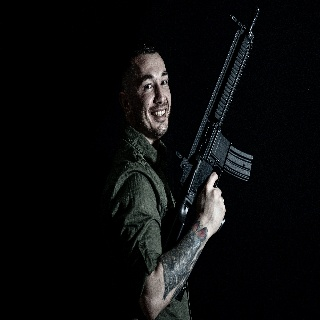rifle: (160, 5, 261, 257)
